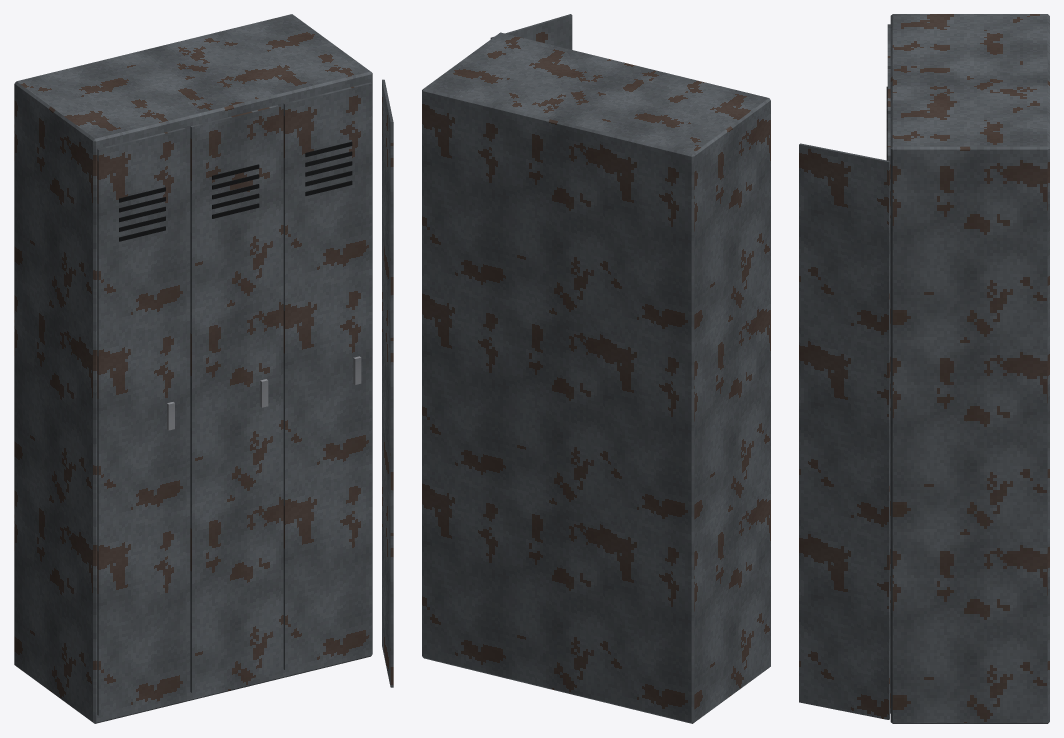
File: Lab_Locker.fbx
3 renders of one model, left to right at view 1: azimuth 30°, elevation 25°; view 2: azimuth 150°, elevation 25°; view 3: azimuth 270°, elevation 25°, orthographic. The views are drawn at different scales.
Visible parts, largest first — view 1: Lab_Locker; view 2: Lab_Locker; view 3: Lab_Locker.
Part boxes in pixels (x1=…): Lab_Locker: x1=14, y1=14, x2=393, y2=723; Lab_Locker: x1=422, y1=14, x2=770, y2=723; Lab_Locker: x1=799, y1=14, x2=1049, y2=723.
Bounding box in the file's own units: 0.9328 × 1.8 × 0.7086.
